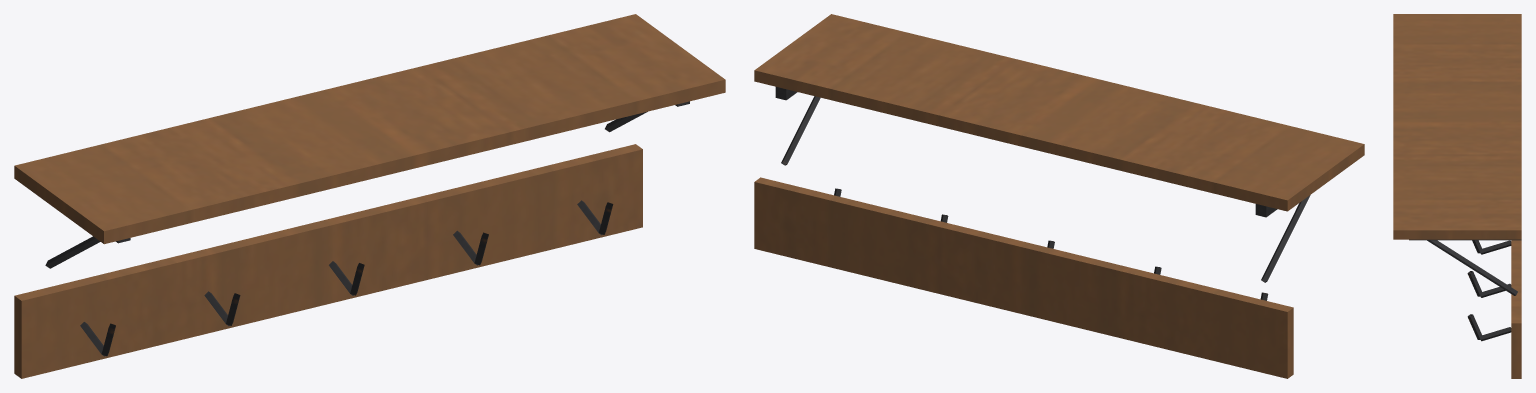
Rendered from Coat_Rack_Wall.fbx.
The picture shows the model from 3 angles, left to right: view 1: azimuth 30°, elevation 25°; view 2: azimuth 150°, elevation 25°; view 3: azimuth 270°, elevation 25°; orthographic projection. The views are drawn at different scales.
Parts seen in each view (by area): view 1: вешалка настенная; view 2: вешалка настенная; view 3: вешалка настенная.
Part boxes in pixels (x1,y1,x2,y2): вешалка настенная: (14,14,725,378); вешалка настенная: (754,14,1364,378); вешалка настенная: (1393,14,1521,378).
Size of the model in its own units: 1 by 0.32 by 0.25.
Materials: 1 (1 with a texture image).
